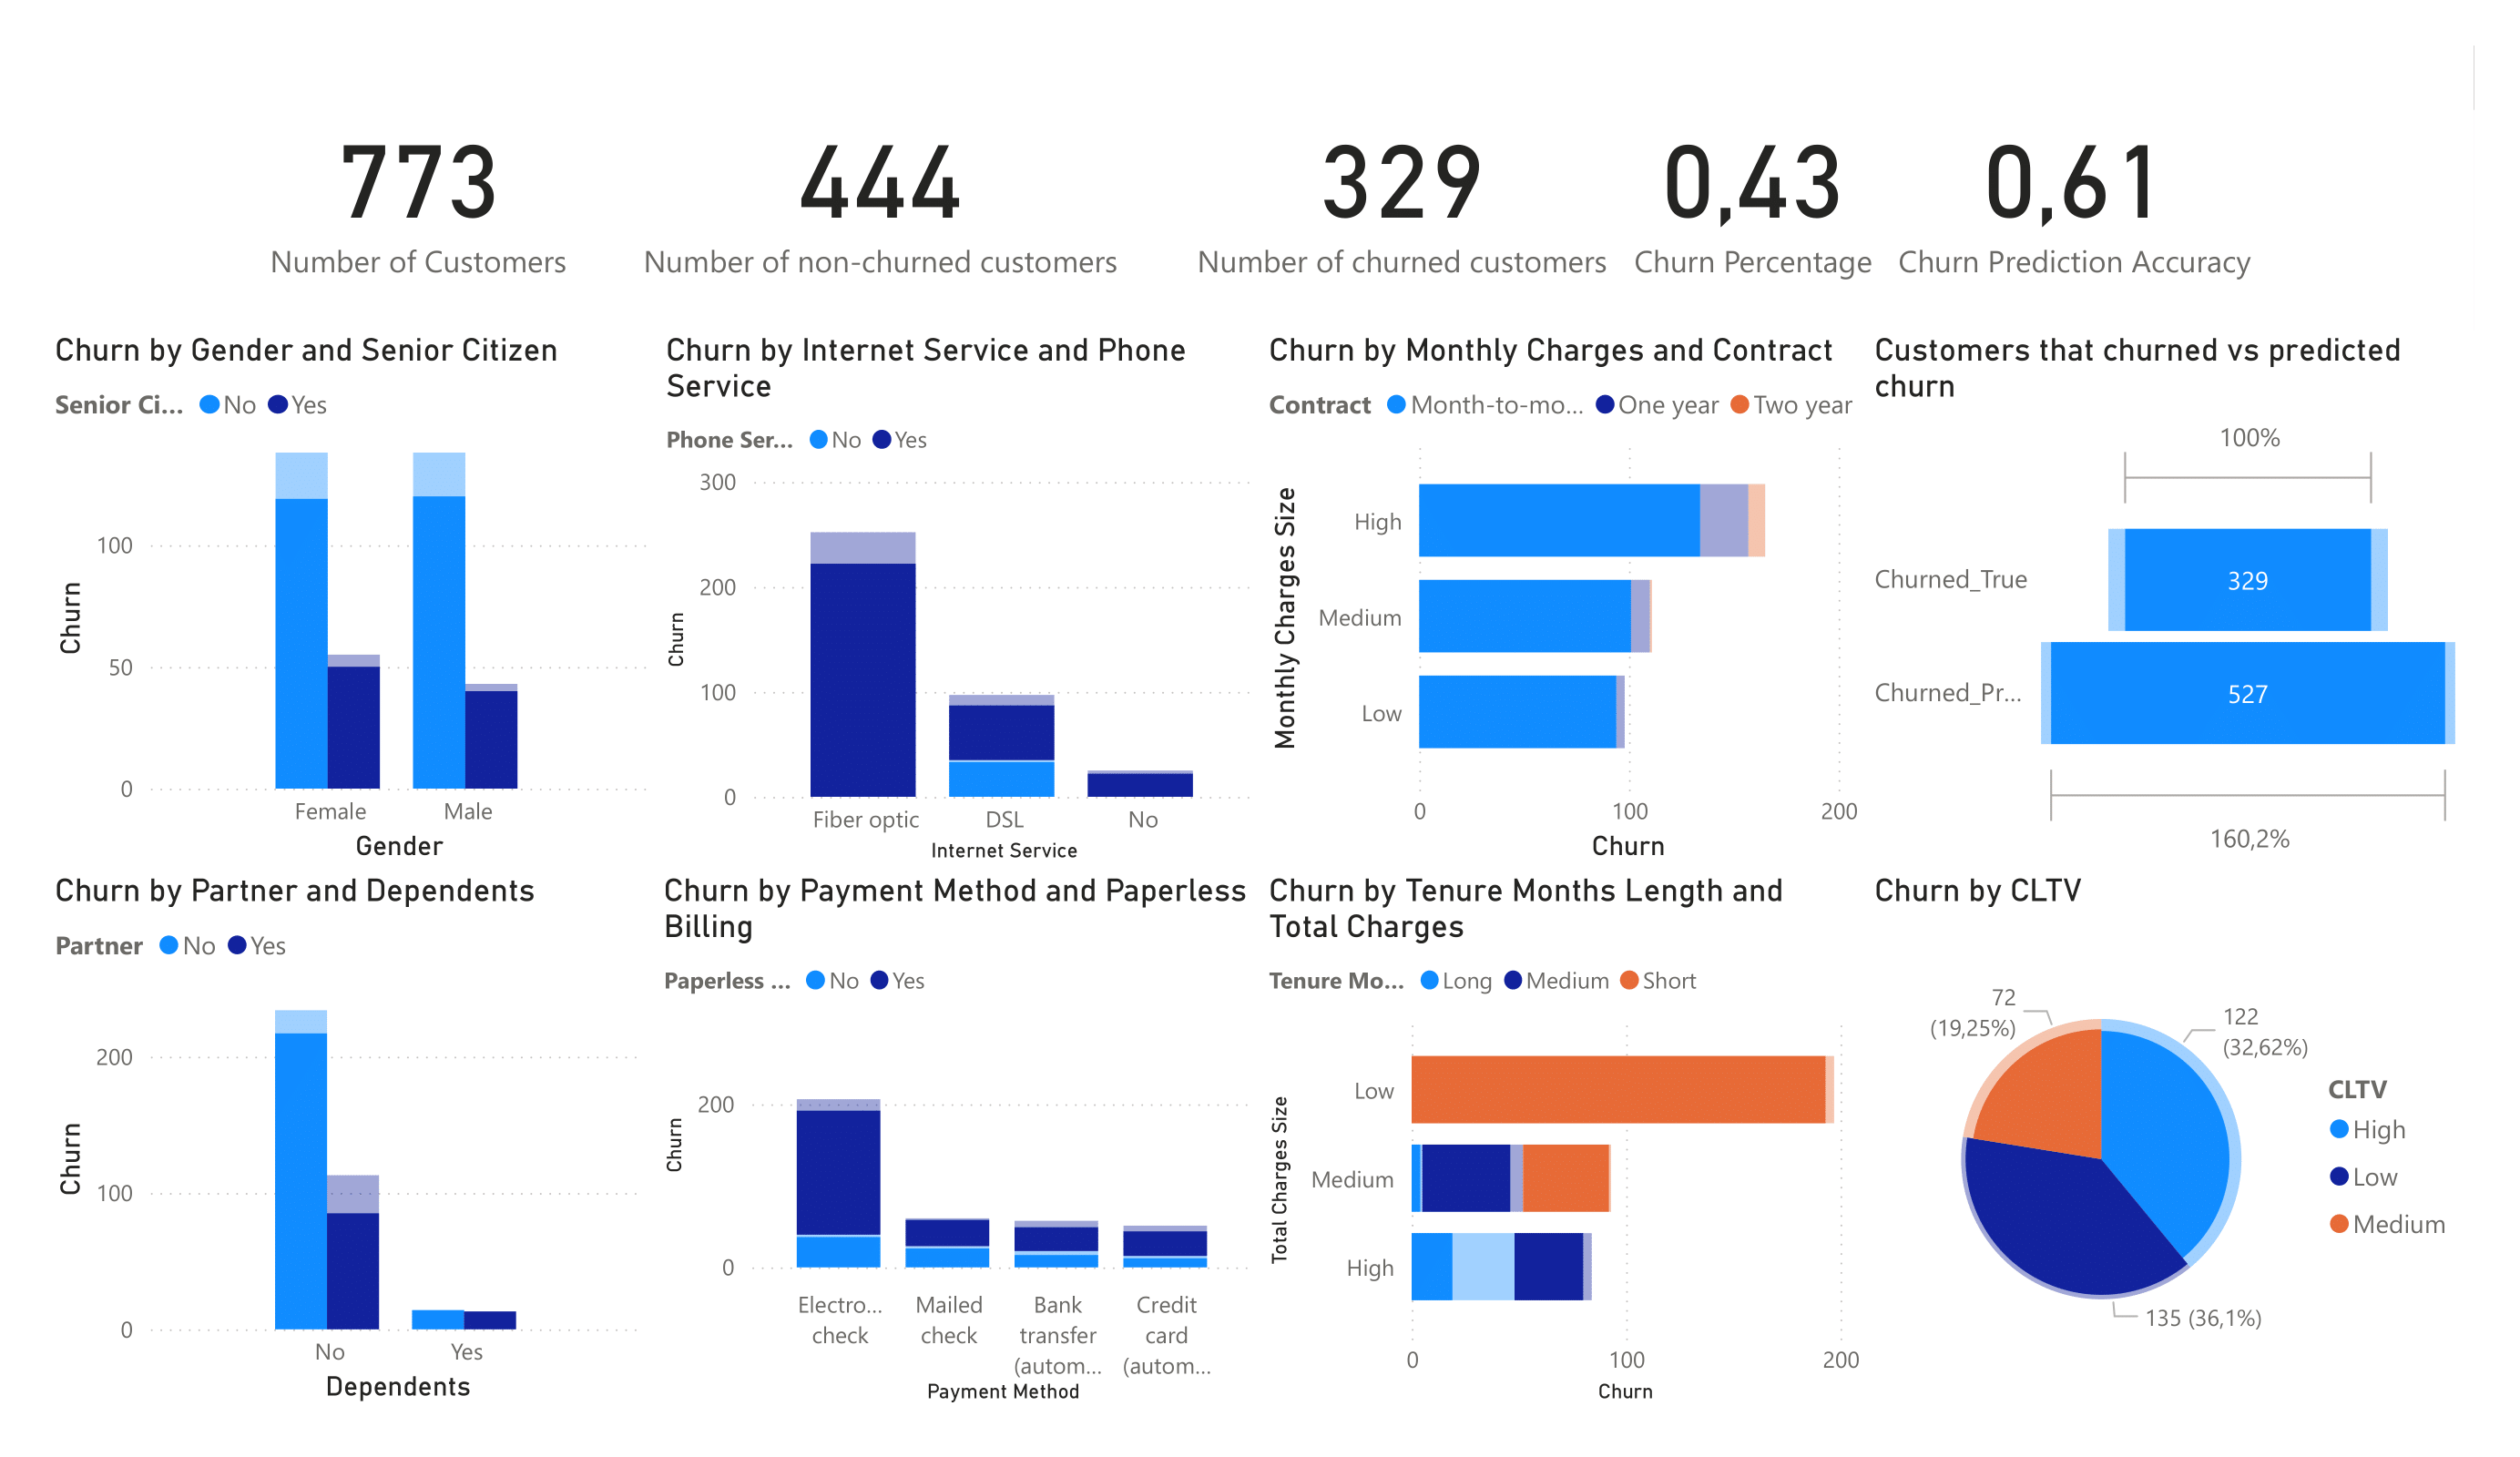

What the dashboard file says about the page in this screenshot:
{"tool":"powerbi","page":{"name":"Side 1","canvas":[1280,720],"ordinal":0},"visuals":[{"type":"card","fields":{"Values":["Avg(Forespørgsel1.y_true)"]},"box":[829.7,0,140.1,149.8],"z":0},{"type":"pieChart","title":"Churn by CLTV","fields":{"Y":["Sum(Attributes.y_true)"],"Category":["Attributes.CLTV Size"]},"box":[959,434.8,321,285],"z":1000},{"type":"card","fields":{"Values":["Attributes.Churn Prediction Accuracy"]},"box":[969.7,0,199.4,149.8],"z":2000},{"type":"barChart","title":"Churn by Tenure Months Length and Total Charges","fields":{"Category":["Attributes.Total Charges Size"],"Series":["Attributes.Tenure Months Length"],"Y":["Sum(Attributes.y_true)"]},"box":[640,434.8,321,285],"z":3000},{"type":"barChart","title":"Churn by Monthly Charges and Contract","fields":{"Category":["Attributes.Monthly Charges Size"],"Y":["Sum(Attributes.y_true)"],"Series":["Attributes.Contract"]},"box":[640,149.8,320,285],"z":4000},{"type":"columnChart","title":"Churn by Payment Method and Paperless Billing","fields":{"Category":["Attributes.Payment Method"],"Y":["Sum(Attributes.y_true)"],"Series":["Attributes.Paperless Billing"]},"box":[321,434.8,321,285],"z":5000},{"type":"columnChart","title":"Churn by Internet Service and Phone Service","fields":{"Category":["Attributes.Internet Service"],"Y":["Sum(Attributes.y_true)"],"Series":["Attributes.Phone Service"]},"box":[321.9,149.8,320,285],"z":6000},{"type":"clusteredColumnChart","title":"Churn by Partner and Dependents","fields":{"Category":["Attributes.Dependents"],"Series":["Attributes.Partner"],"Y":["Sum(Attributes.y_true)"]},"box":[0,434.8,321,285],"z":7000},{"type":"clusteredColumnChart","title":"Churn by Gender and Senior Citizen","fields":{"Category":["Attributes.Gender"],"Series":["Attributes.Senior Citizen"],"Y":["Sum(Attributes.y_true)"]},"box":[0,149.8,321.9,285],"z":8000},{"type":"funnel","title":"Customers that churned vs predicted churn","fields":{"Y":["Sum(Attributes.y_true)","Sum(Attributes.y_pred)"]},"box":[959,149.8,321,285],"z":9000},{"type":"card","fields":{"Values":["CountNonNull(Attributes.y_true)"]},"box":[110.9,0,171.2,149.8],"z":10000},{"type":"card","fields":{"Values":["CountNonNull(Attributes.y_true)"]},"box":[600.1,0,229.5,149.8],"z":11000},{"type":"card","fields":{"Values":["CountNonNull(Attributes.y_true)"]},"box":[280.1,0,320,149.8],"z":12000}]}

Visuals, with their boxes in screenshot pixels (x1, y1, x2, y2):
card - Avg(Forespørgsel1.y_true): [1757, 66, 2020, 346]
"Churn by CLTV" pieChart: [1999, 880, 2519, 1413]
card - Attributes.Churn Prediction Accuracy: [2019, 66, 2392, 346]
"Churn by Tenure Months Length and Total Charges" barChart: [1402, 880, 2003, 1413]
"Churn by Monthly Charges and Contract" barChart: [1402, 346, 2001, 880]
"Churn by Payment Method and Paperless Billing" columnChart: [804, 880, 1405, 1413]
"Churn by Internet Service and Phone Service" columnChart: [806, 346, 1405, 880]
"Churn by Partner and Dependents" clusteredColumnChart: [203, 880, 804, 1413]
"Churn by Gender and Senior Citizen" clusteredColumnChart: [203, 346, 806, 880]
"Customers that churned vs predicted churn" funnel: [1999, 346, 2519, 880]
card - CountNonNull(Attributes.y_true): [411, 66, 731, 346]
card - CountNonNull(Attributes.y_true): [1327, 66, 1757, 346]
card - CountNonNull(Attributes.y_true): [728, 66, 1327, 346]
